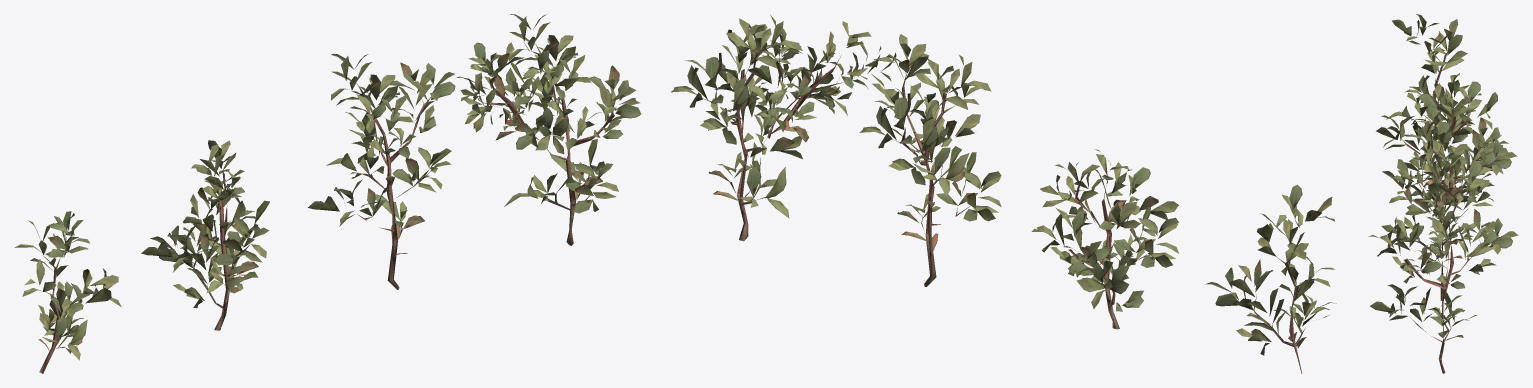
File: shrub_04.glb
The picture shows the model from 3 angles, left to right: view 1: azimuth 30°, elevation 25°; view 2: azimuth 150°, elevation 25°; view 3: azimuth 270°, elevation 25°; orthographic projection. The views are drawn at different scales.
Parts seen in each view (by area): view 1: shrub_04; view 2: shrub_04; view 3: shrub_04.
Boxes of the visible parts, <box> form: shrub_04: <box>14,14,641,373</box>; shrub_04: <box>671,14,1336,373</box>; shrub_04: <box>1368,14,1518,373</box>.
Bounding box in the file's own units: 0.5837 × 0.2192 × 0.1461.
Materials: 1 (1 with a texture image).
